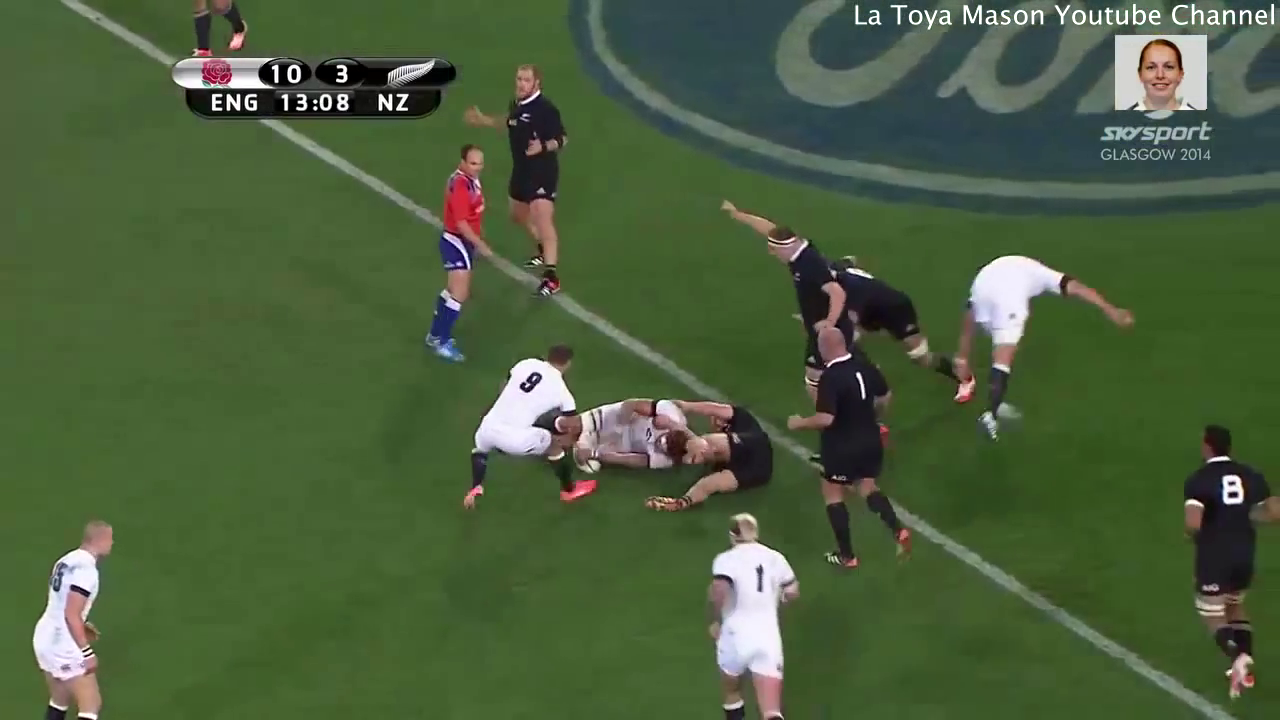player: (949, 251, 1136, 452), (1176, 416, 1280, 718), (801, 321, 916, 577), (455, 343, 599, 524), (478, 53, 577, 305), (700, 508, 812, 720), (717, 198, 857, 348), (405, 137, 490, 369), (28, 512, 121, 720), (841, 252, 950, 397), (677, 392, 778, 504), (577, 386, 689, 480)
